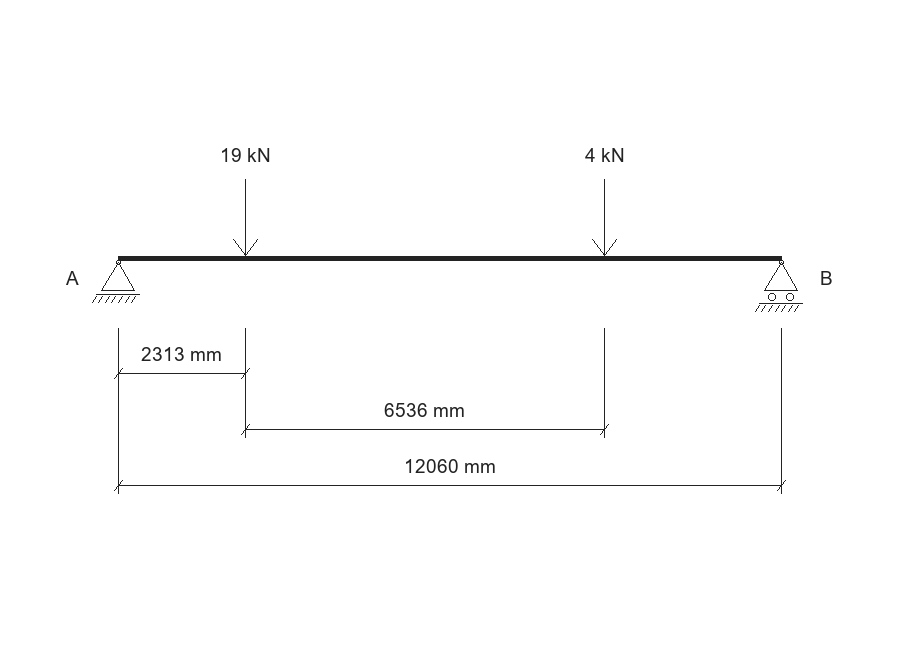pin_support: (92, 260, 140, 303)
point_load: (233, 179, 258, 256), (592, 179, 617, 256)
roller_support: (755, 260, 803, 312)
